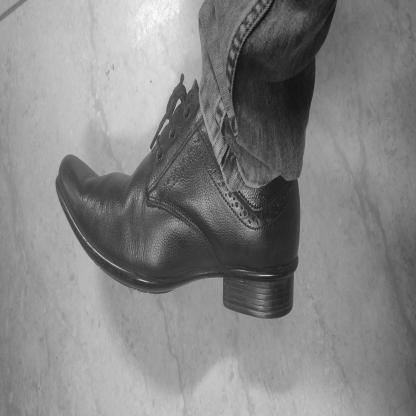ankle: (250, 184, 256, 197)
heel: (284, 289, 292, 302)
pinky: (81, 164, 84, 167)
right_foot: (56, 88, 301, 321)
toe: (61, 178, 65, 187)
